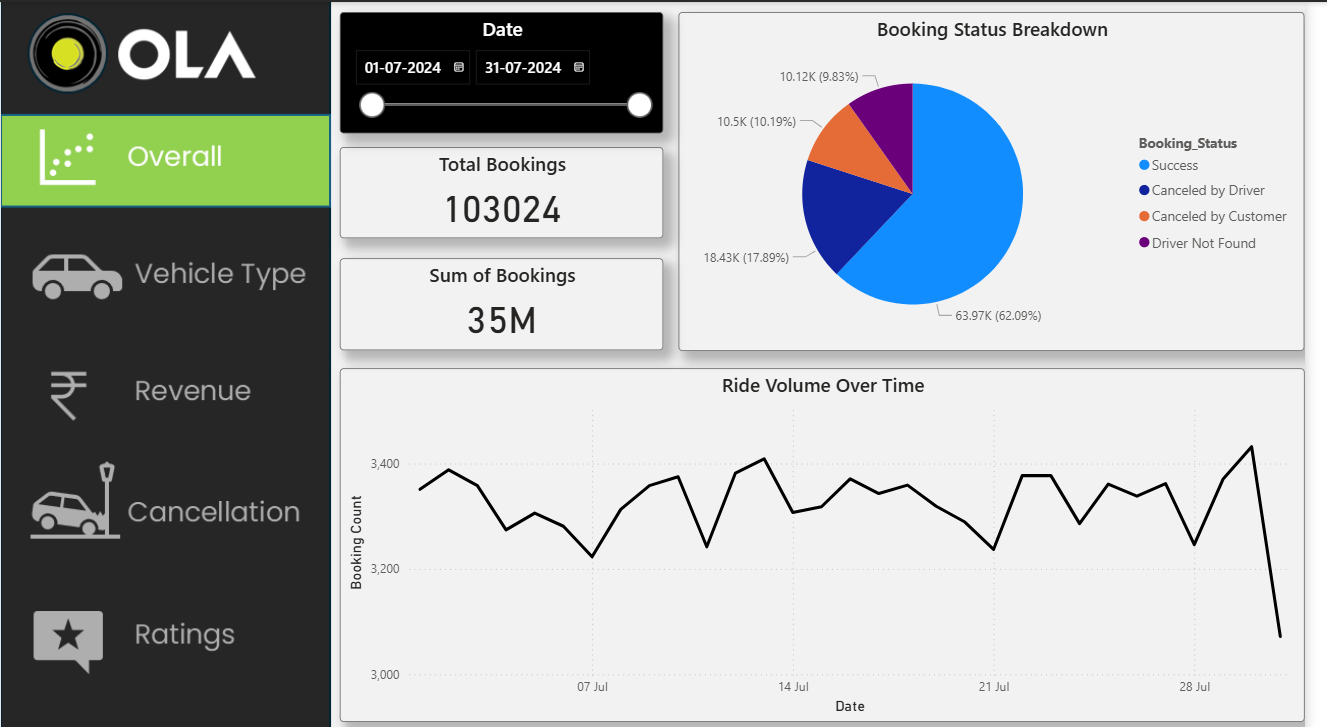

What the dashboard file says about the page in this screenshot:
{"tool":"powerbi","page":{"name":"Overall","canvas":[1280,720],"ordinal":0},"visuals":[{"type":"actionButton","box":[0,108,322.7,96.9],"z":0},{"type":"actionButton","box":[0,582.8,322.7,96.9],"z":1000},{"type":"actionButton","box":[0,450.3,322.7,96.9],"z":2000},{"type":"actionButton","box":[0,328.8,322.7,96.9],"z":3000},{"type":"actionButton","box":[1.2,223.3,322.7,96.9],"z":4000},{"type":"lineChart","title":"Ride Volume Over Time","fields":{"Category":["Bookings.Date"],"Y":["CountNonNull(Bookings.Booking_ID)"]},"box":[332.5,359.5,947.2,347.2],"z":5000},{"type":"pieChart","title":"Booking Status Breakdown ","fields":{"Category":["Bookings.Booking_Status"],"Y":["CountNonNull(Bookings.Booking_ID)"]},"box":[665,9.8,614.7,332.5],"z":6000},{"type":"slicer","title":"Date ","fields":{"Values":["Bookings.Date"]},"box":[332.5,9.8,317.8,119],"z":7000},{"type":"card","title":"Total Bookings ","fields":{"Values":["Count(Bookings.Booking_ID)"]},"box":[332.5,142.3,317.8,89.6],"z":8000},{"type":"card","title":"Sum of Bookings ","fields":{"Values":["Sum(Bookings.Booking_Value)"]},"box":[332.5,251.5,317.8,90.8],"z":9000}]}

Visuals, with their boxes in screenshot pixels (x1, y1, x2, y2), scaled from the page's 1280x720 canvas onto the 1327x727 screenshot:
actionButton: x1=0, y1=109, x2=335, y2=207
actionButton: x1=0, y1=588, x2=335, y2=686
actionButton: x1=0, y1=455, x2=335, y2=553
actionButton: x1=0, y1=332, x2=335, y2=430
actionButton: x1=1, y1=225, x2=336, y2=323
"Ride Volume Over Time" lineChart: x1=345, y1=363, x2=1326, y2=714
"Booking Status Breakdown " pieChart: x1=689, y1=10, x2=1326, y2=346
"Date " slicer: x1=345, y1=10, x2=674, y2=130
"Total Bookings " card: x1=345, y1=144, x2=674, y2=234
"Sum of Bookings " card: x1=345, y1=254, x2=674, y2=346
